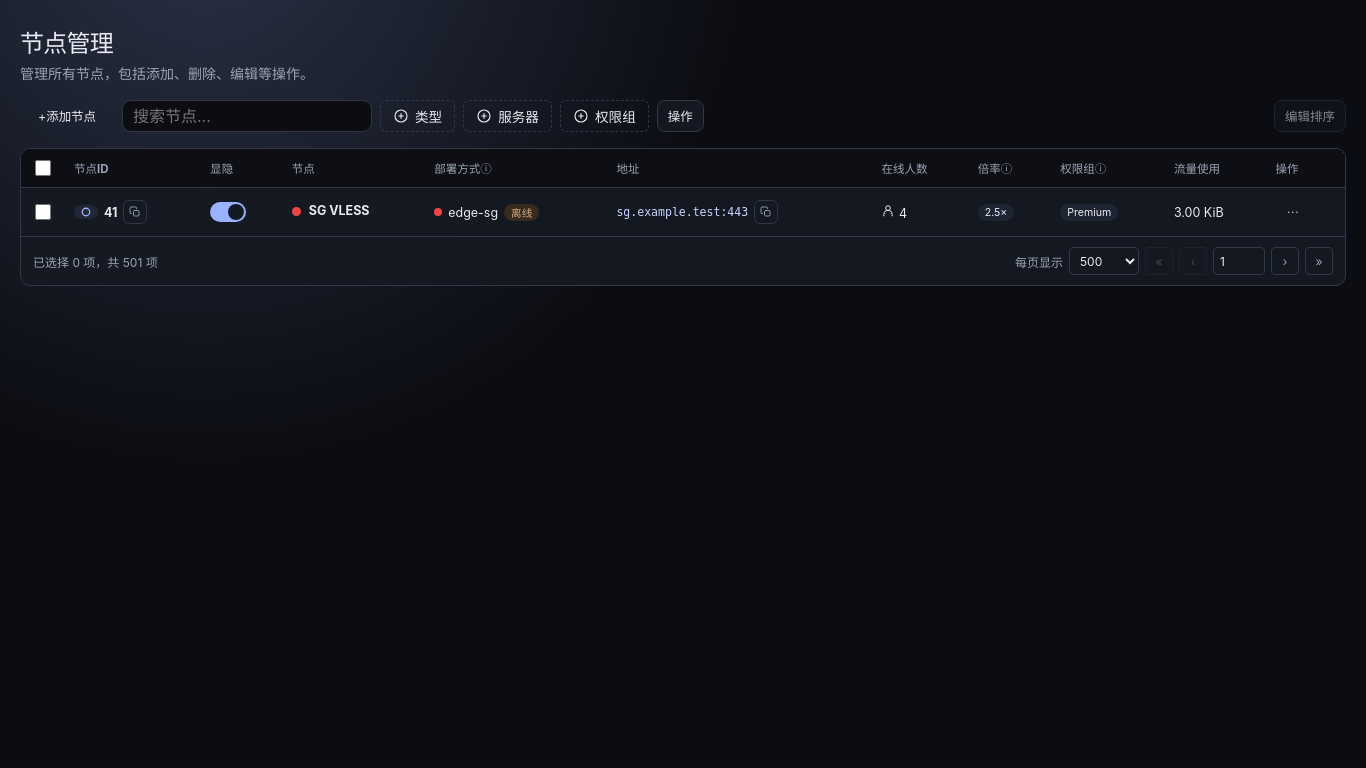
Scenario: NodeManagementPage › matches the legacy directory columns, protocol filters, and bounded server pagination
Expected: the column heading "节点ID" is shown, 64,149 -> 200,188
Expected: the column heading "显隐" is shown, 200,149 -> 282,188
Click the button "类型": [418, 116] box 380,100 -> 455,132
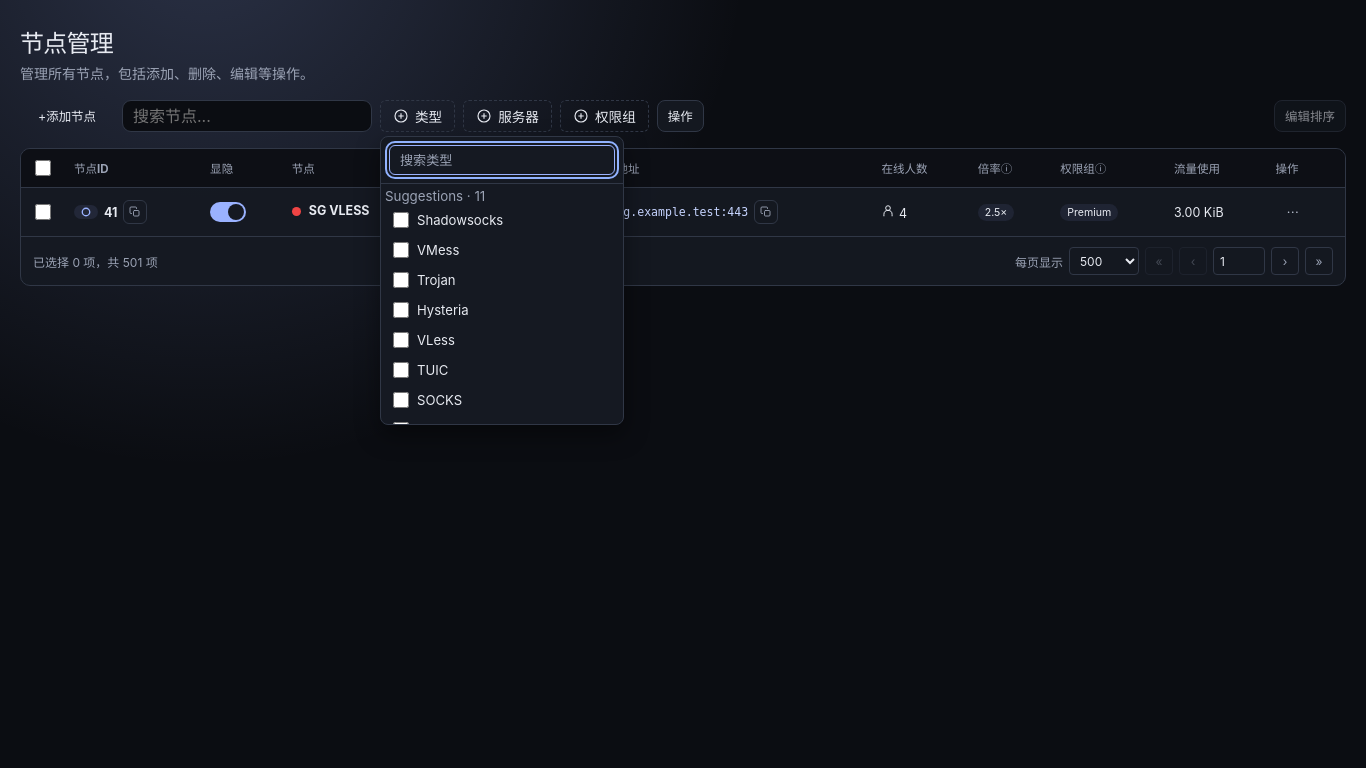
Expected: the checkbox labelled "Shadowsocks" is shown, 393,212 -> 409,228
Expected: the checkbox labelled "VMess" is shown, 393,242 -> 409,258
Expected: the checkbox labelled "Trojan" is shown, 393,272 -> 409,288
Press Escape
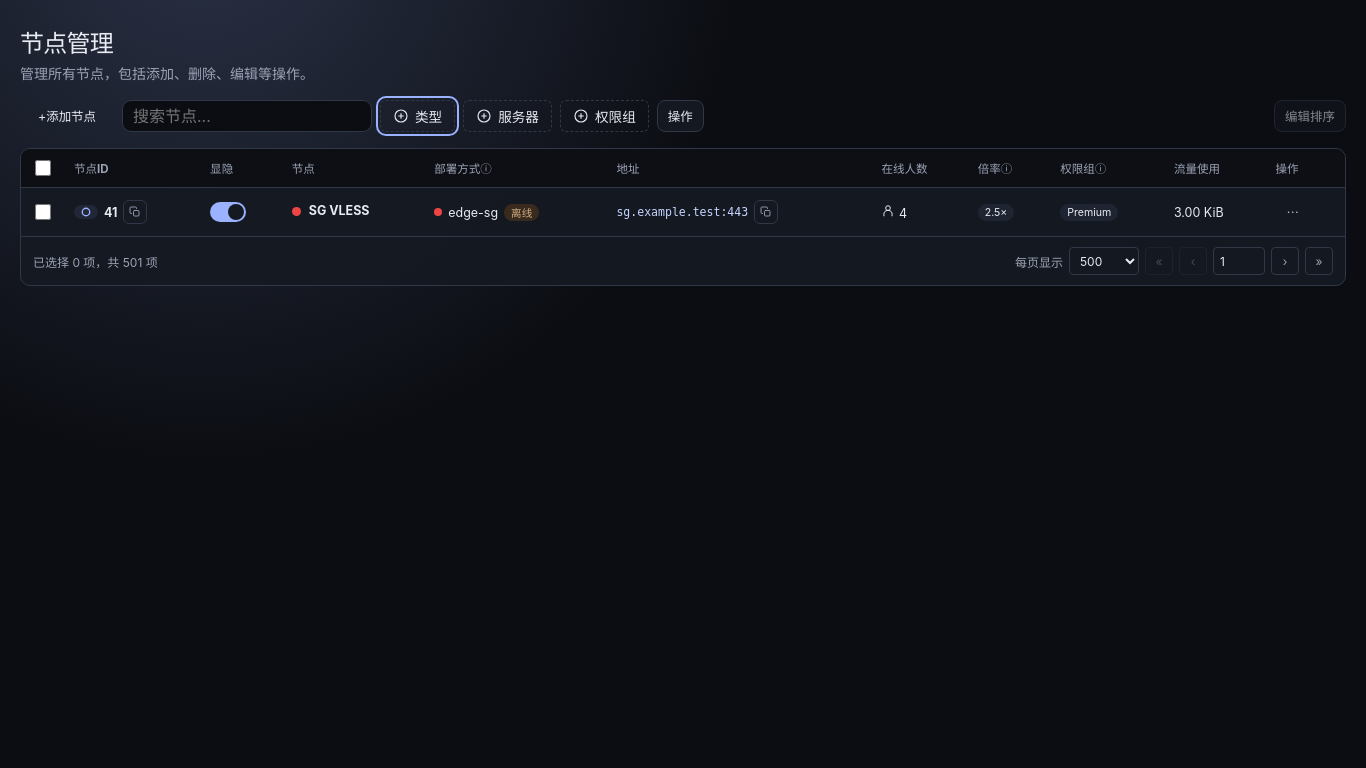
Expected: the text "edge-sg" is shown, 448,204 -> 498,220
Expected: the text "Premium" is shown, 1060,204 -> 1118,220
Click the button named "节点操作：SG VLESS": [1293, 212] box 1276,196 -> 1310,228
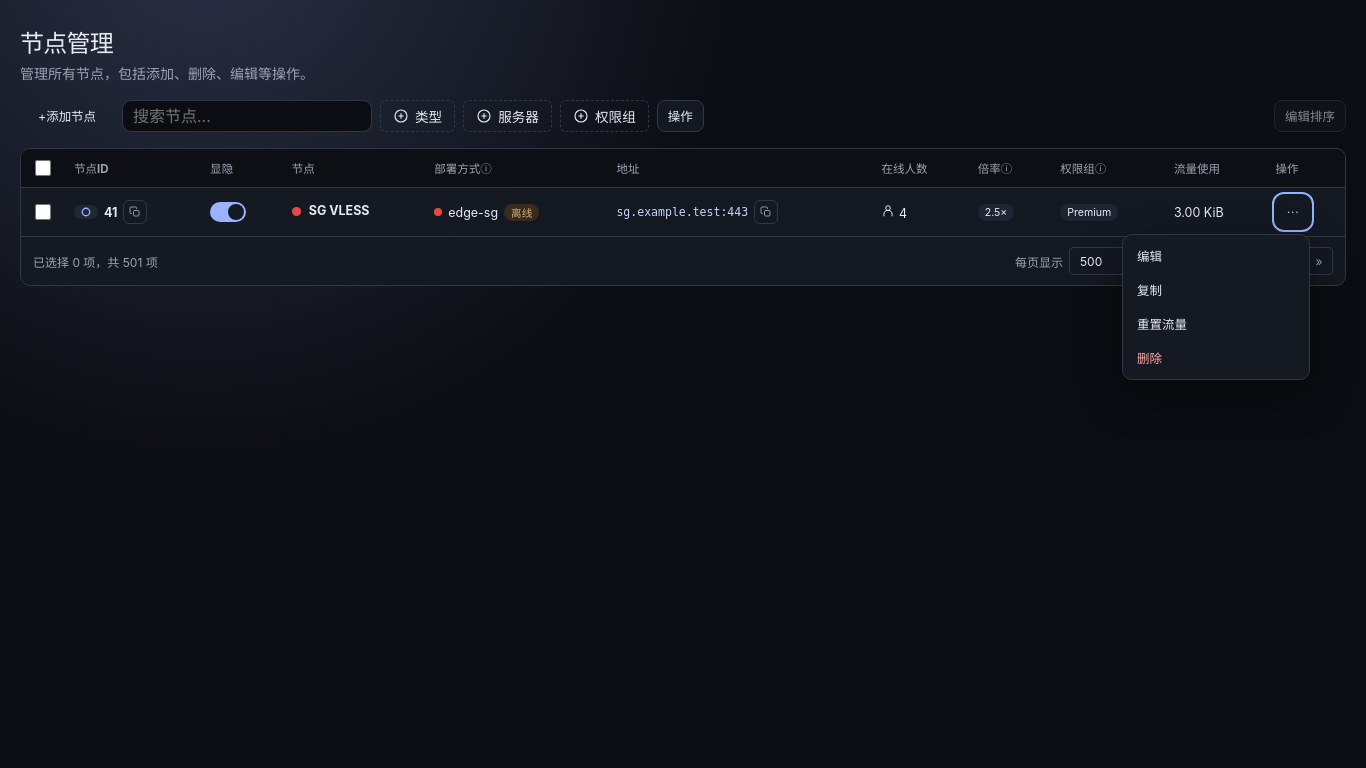
Press Escape
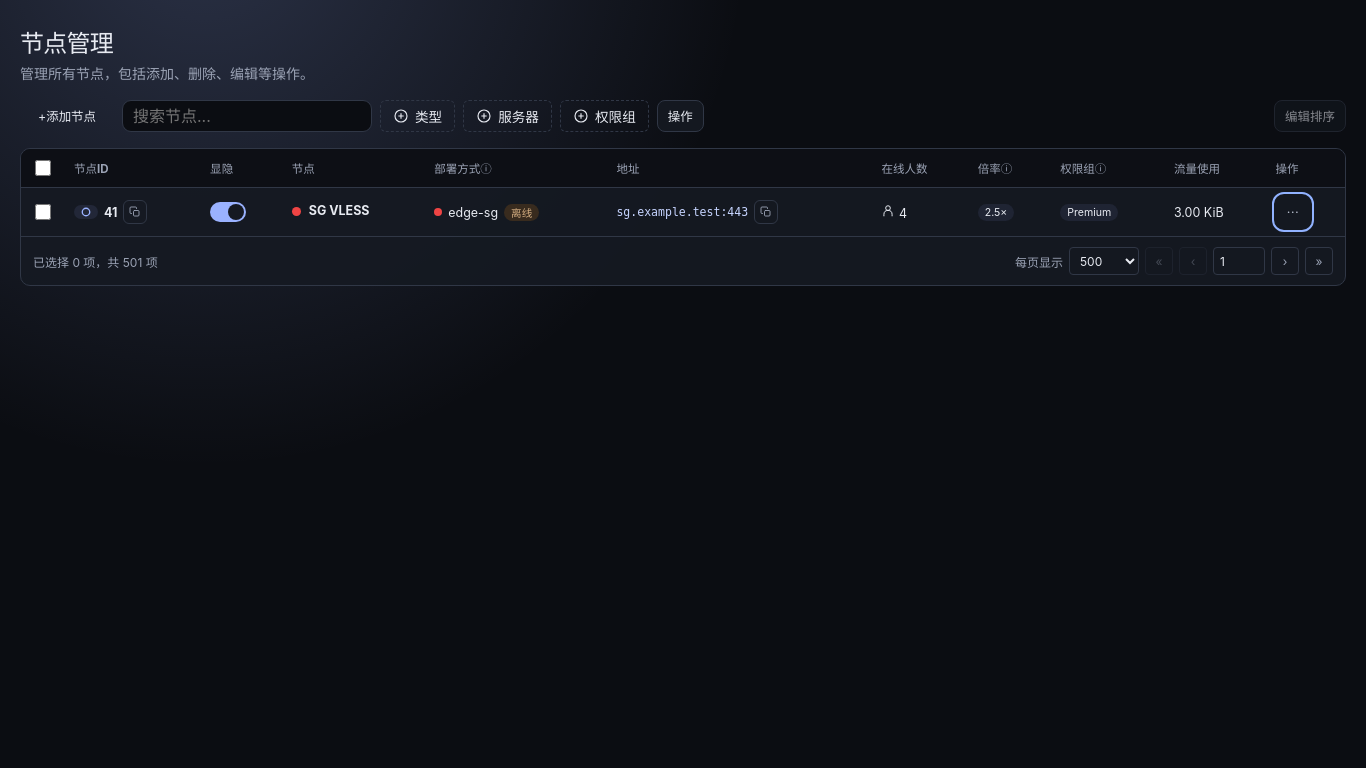
Click the button named "下一页": [1285, 261] box 1271,247 -> 1299,275
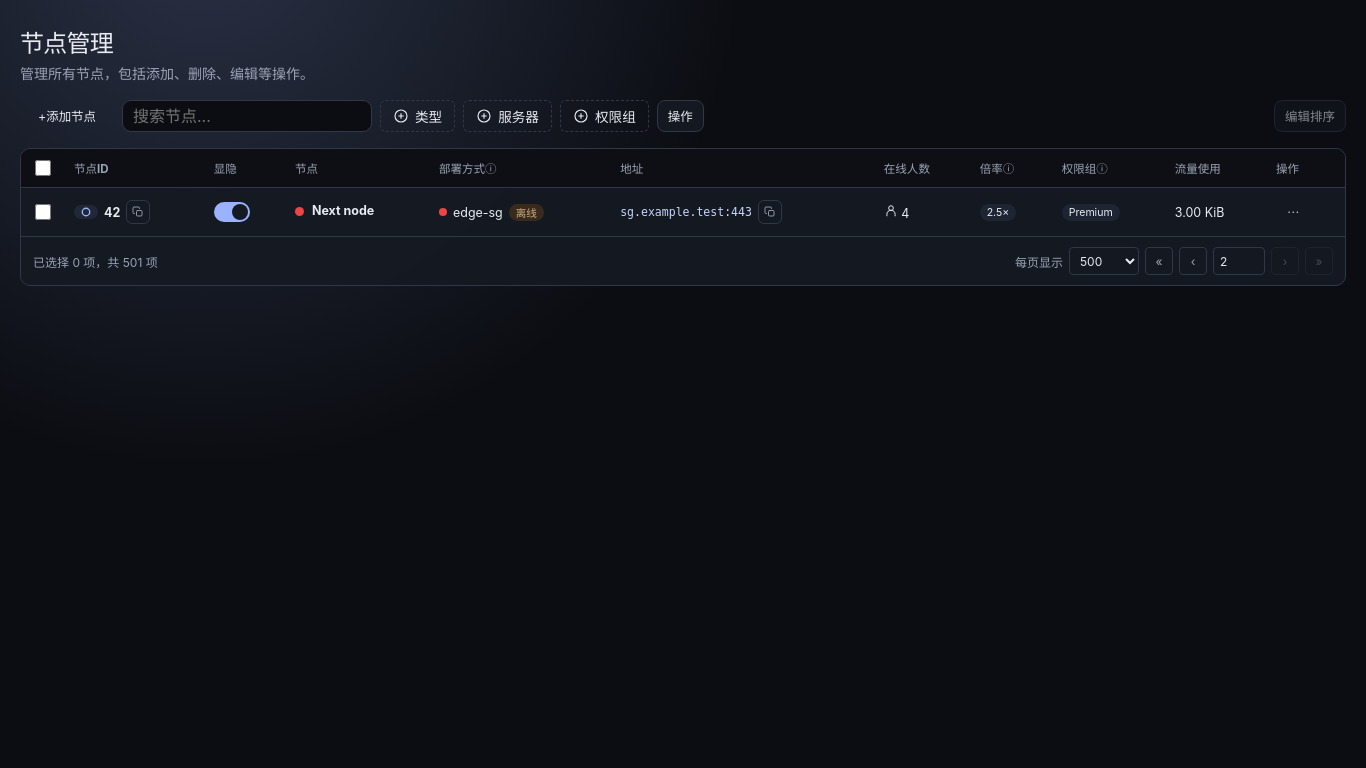
Expected: the button "Next node" is shown, 312,202 -> 374,218
